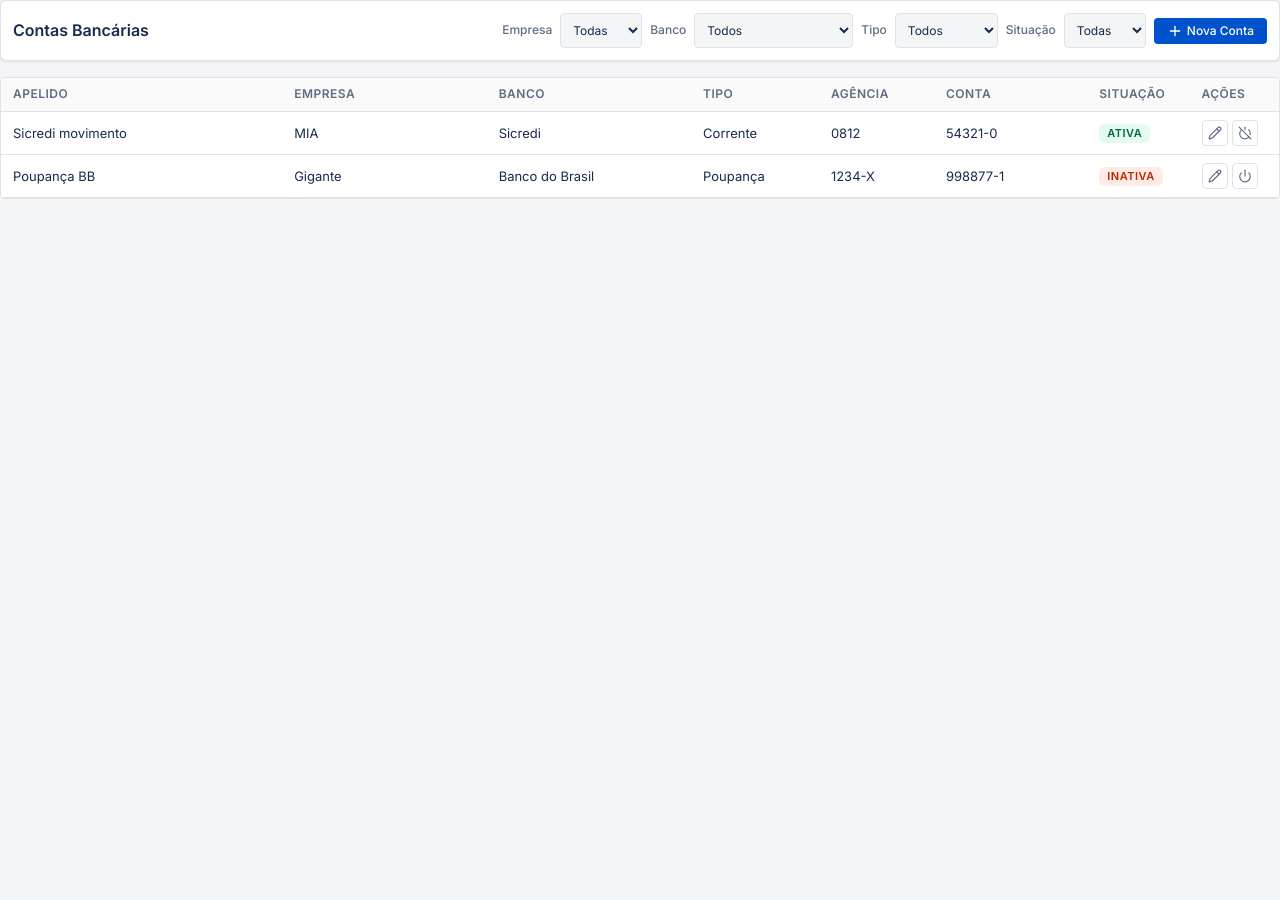
Test: ContasBancarias › mostra a conta repetida como erro do formulário, sem o aviso de conflito
This screenshot has width=1280, height=900.
Expected: the text "Sicredi movimento" is shown, [1,111,282,154]
Click the button "Nova Conta".
click(1210, 30)  # box [1154,18,1267,44]
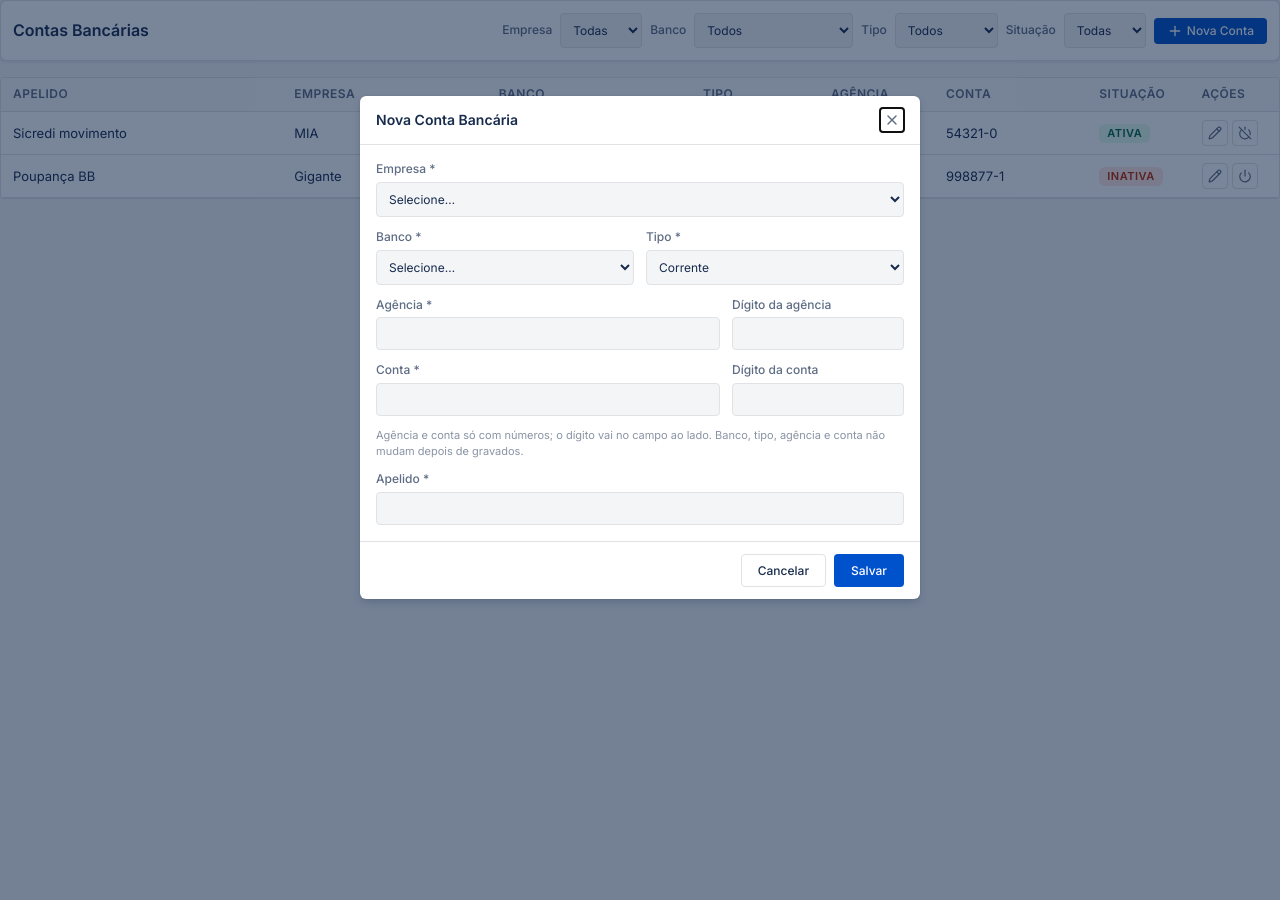
Select "MIA" in the dropdown labelled "Empresa *" at (640, 199), box [376,182,904,217]
Select "Sicredi (748)" in the dropdown labelled "Banco *" at (505, 267), box [376,250,634,285]
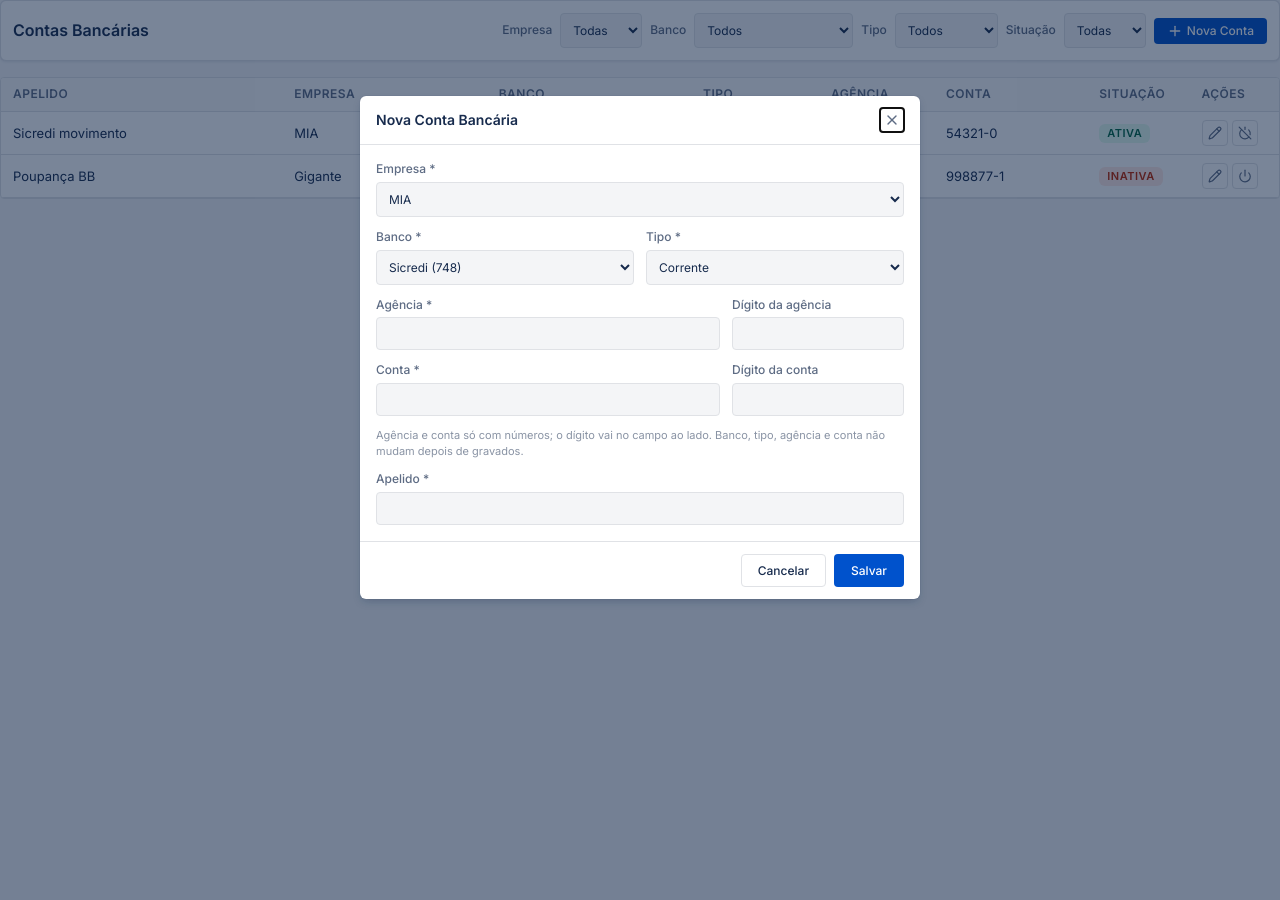
Type "0812" into the field labelled "Agência *".
click(548, 334); type("0812")  # box [376,317,720,350]
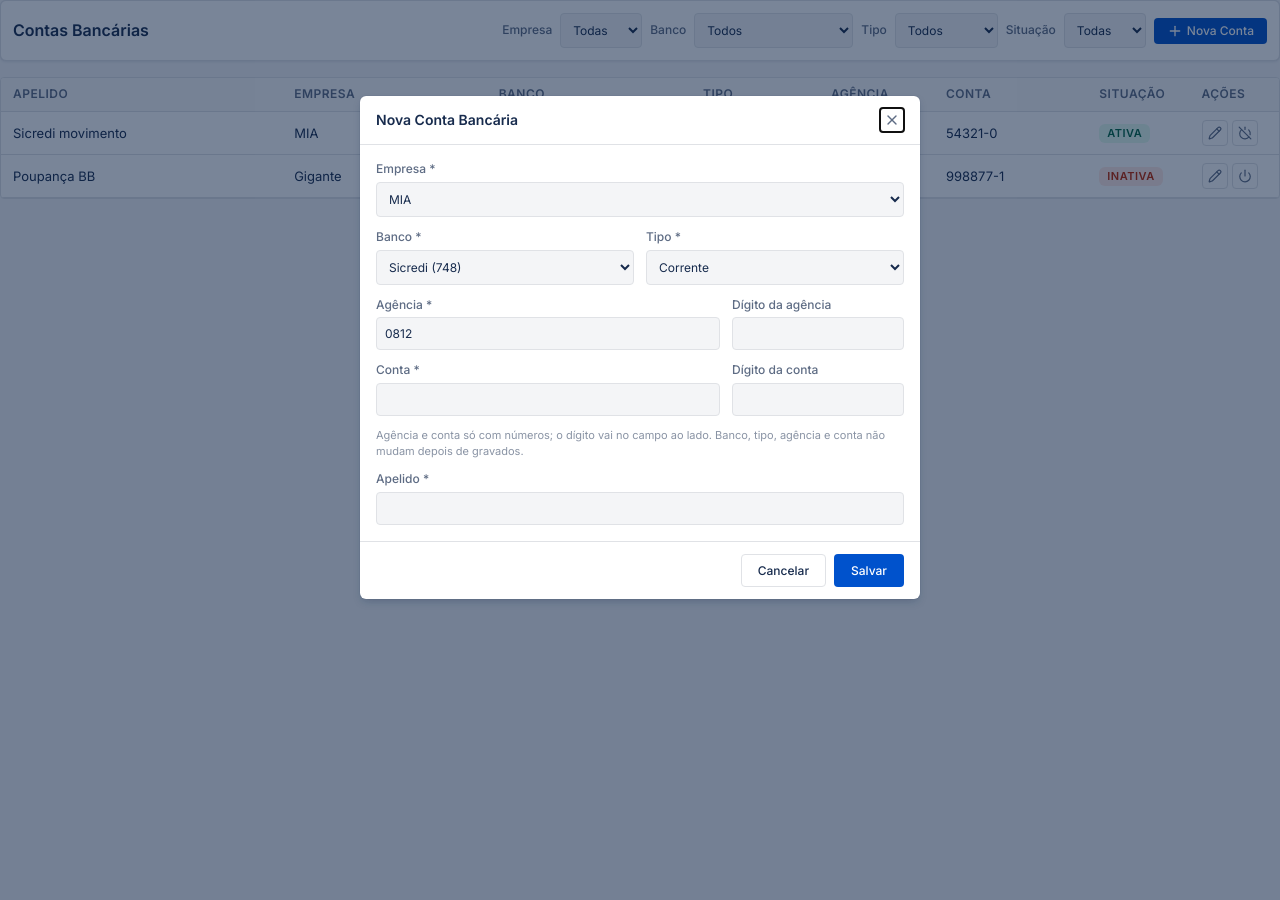
Type "54321" into the field labelled "Conta *".
click(548, 400); type("54321")  # box [376,383,720,416]
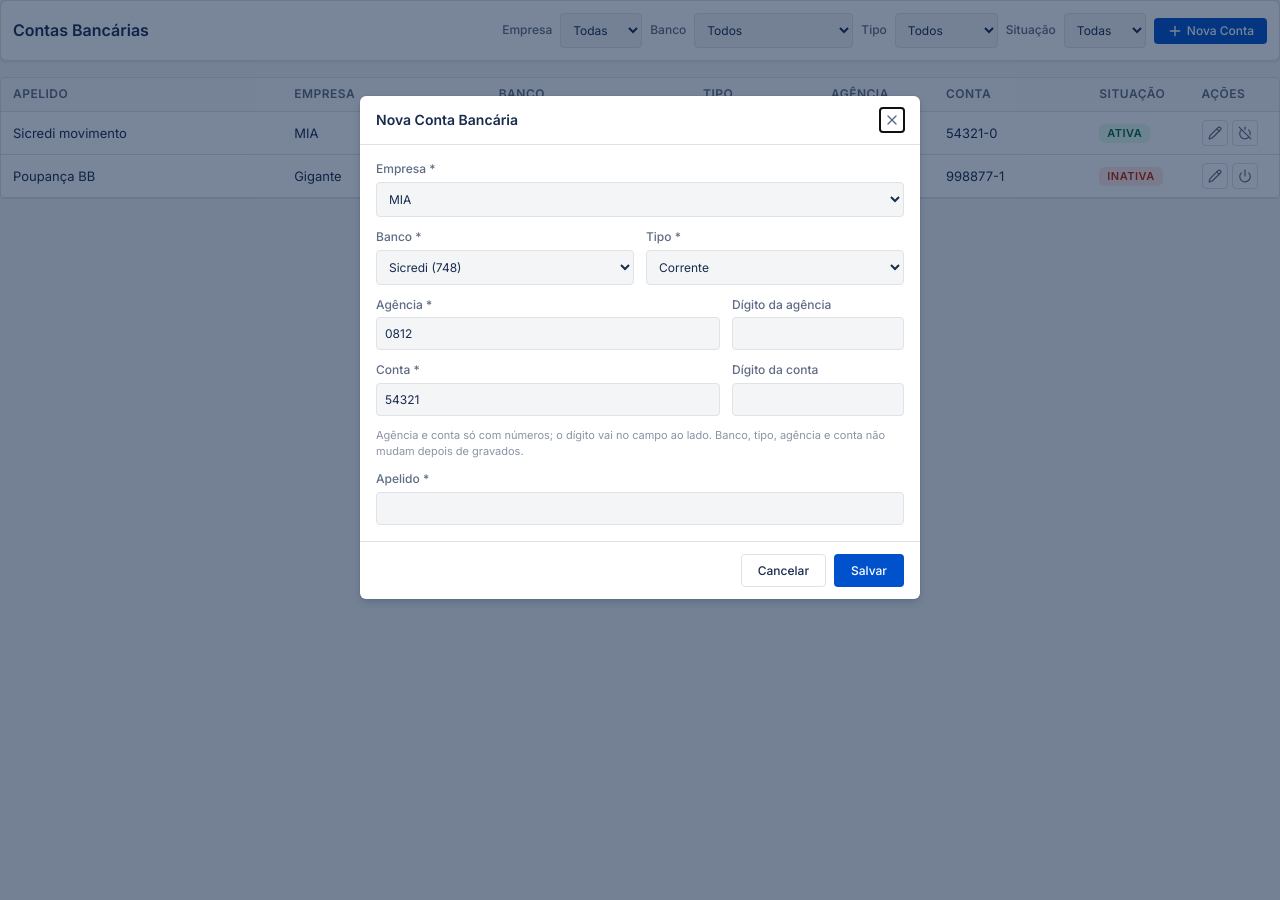
Type "Repetida" into the field labelled "Apelido *".
click(640, 508); type("Repetida")  # box [376,492,904,525]
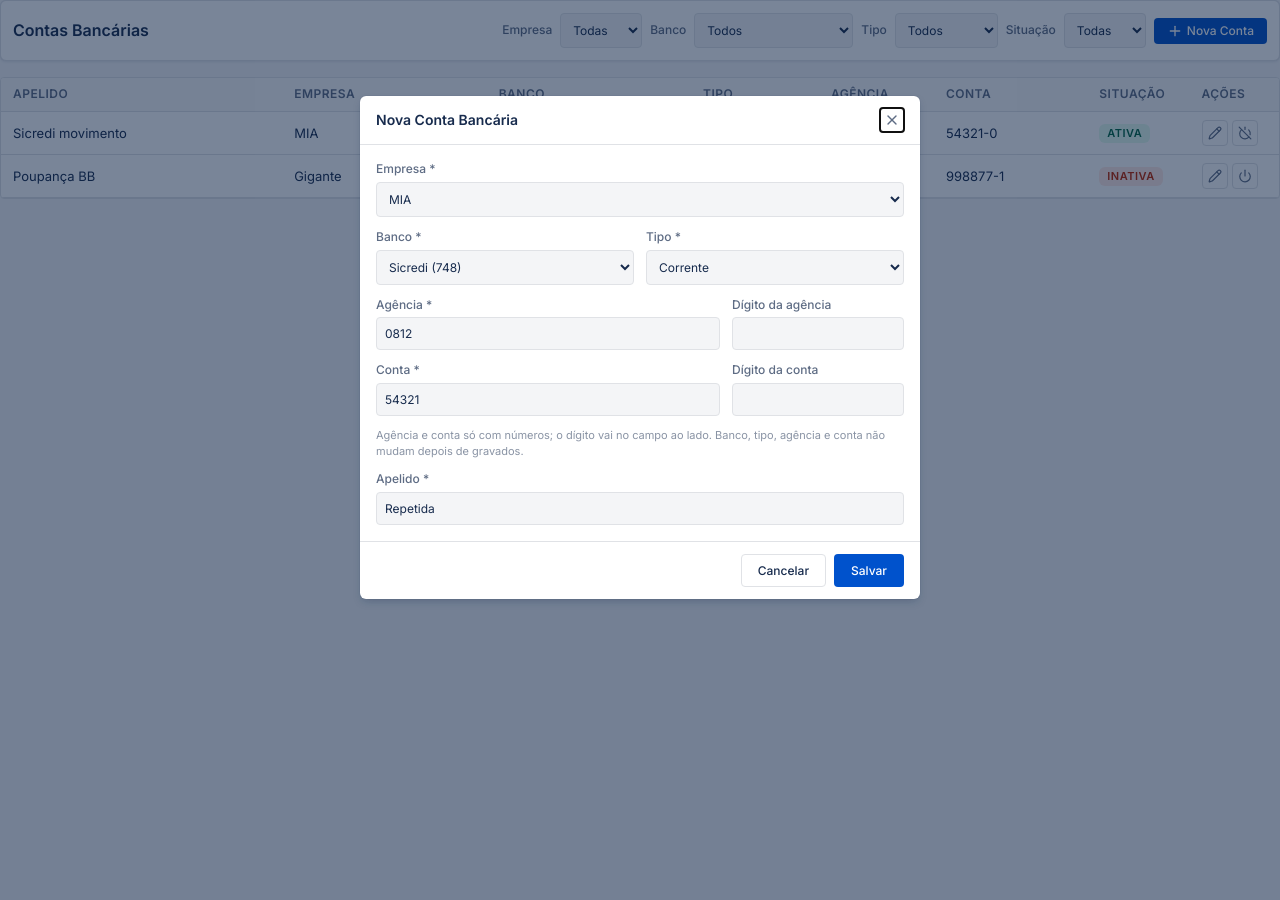
Click the button "Salvar".
click(869, 570)  # box [834,554,904,587]
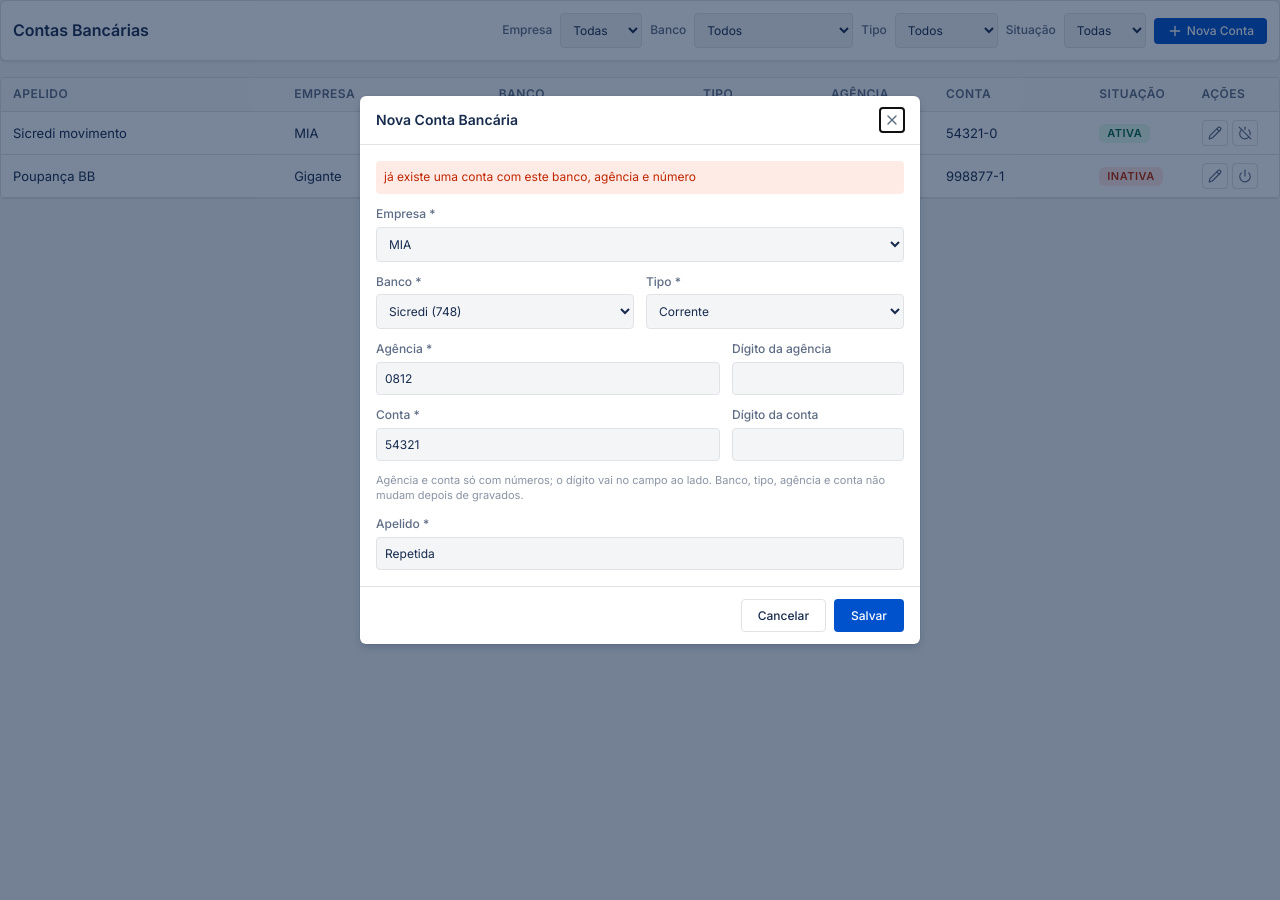
Expected: the text "já existe uma conta com este banco, agência e número" is shown, [376,161,904,194]
